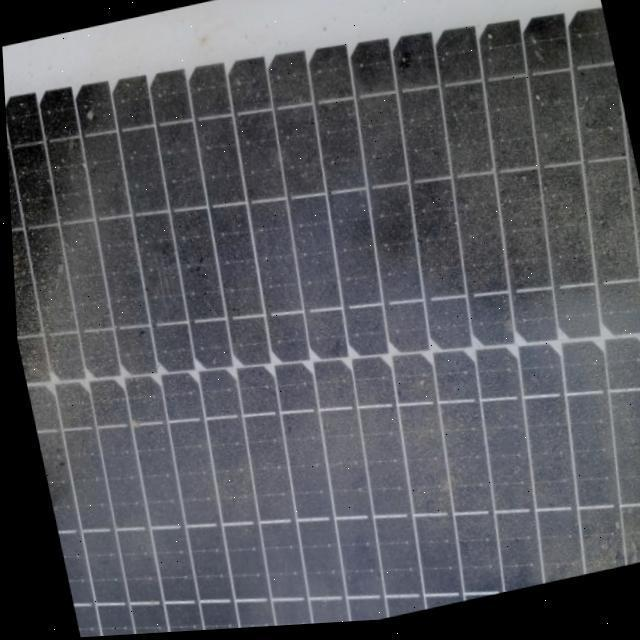Anomaly Solar Panel: (0, 0, 640, 640)
Surface Contaminant: (4, 0, 640, 638)
